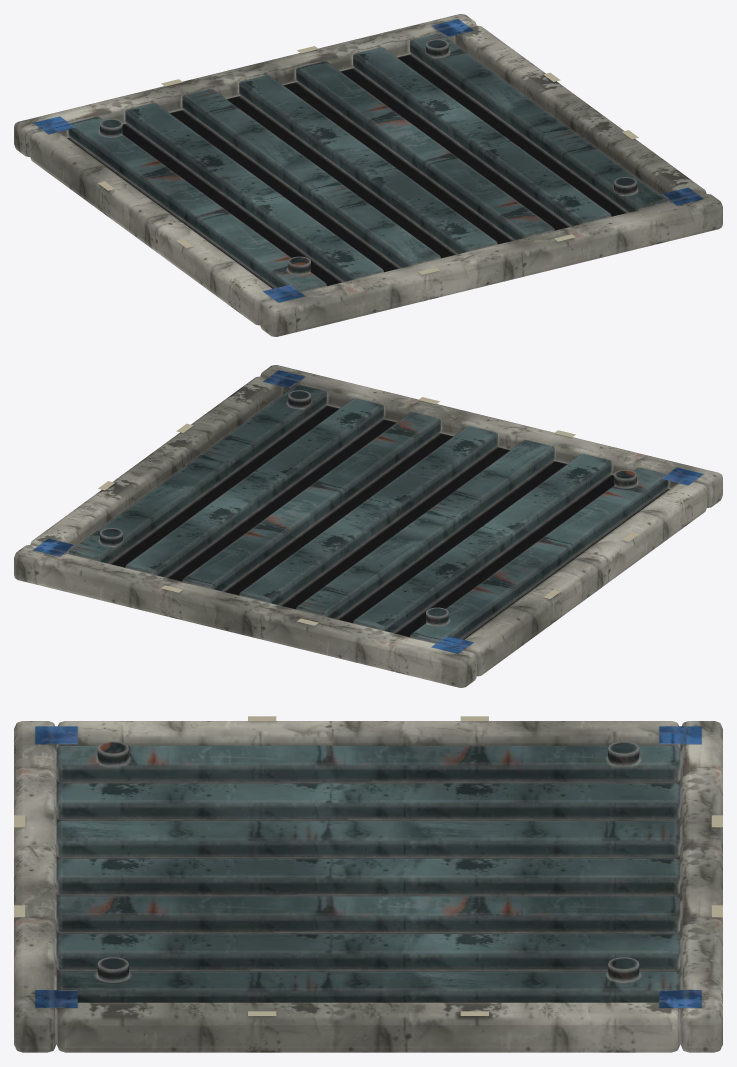
The model's file is hull_platform_space.glb.
3 views of the same model, one above another, from view 1: azimuth 30°, elevation 25°; view 2: azimuth 150°, elevation 25°; view 3: azimuth 270°, elevation 25° (orthographic). The views are drawn at different scales.
Parts seen in each view (by area): view 1: te_hull_platform_space; view 2: te_hull_platform_space; view 3: te_hull_platform_space.
Boxes of the visible parts, left/top/right/bottom form: te_hull_platform_space: left=14, top=14, right=722, bottom=336; te_hull_platform_space: left=14, top=365, right=722, bottom=687; te_hull_platform_space: left=14, top=716, right=722, bottom=1052.
Bounding box in the file's own units: 1 × 0.078 × 1.
Materials: 1 (1 with a texture image).
